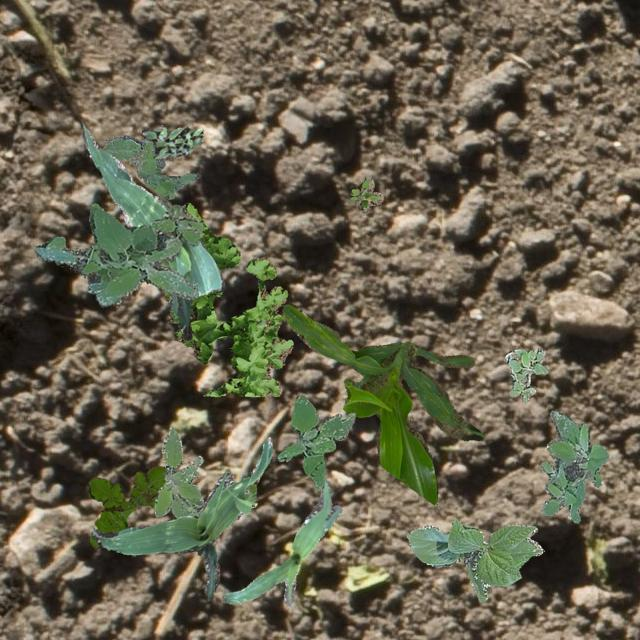crop: (282, 304, 484, 504), (80, 124, 224, 338), (90, 436, 272, 600), (222, 478, 341, 608), (406, 516, 542, 602)
weed: (164, 202, 292, 396), (34, 202, 202, 304), (540, 409, 608, 522), (276, 394, 354, 489), (102, 134, 202, 198), (88, 466, 164, 548), (154, 426, 202, 518), (504, 346, 546, 401), (140, 126, 202, 160), (348, 177, 382, 210)
